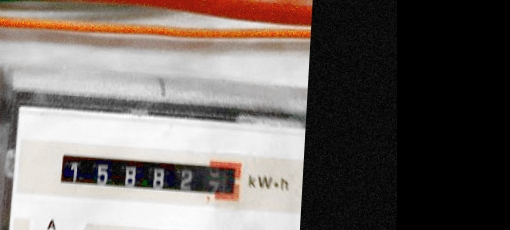1: (66, 159, 81, 181)
2: (176, 167, 194, 192)
5: (94, 160, 109, 186)
7: (206, 176, 219, 193)
8: (149, 165, 165, 190), (122, 164, 136, 187)
screen: (50, 144, 249, 210)
